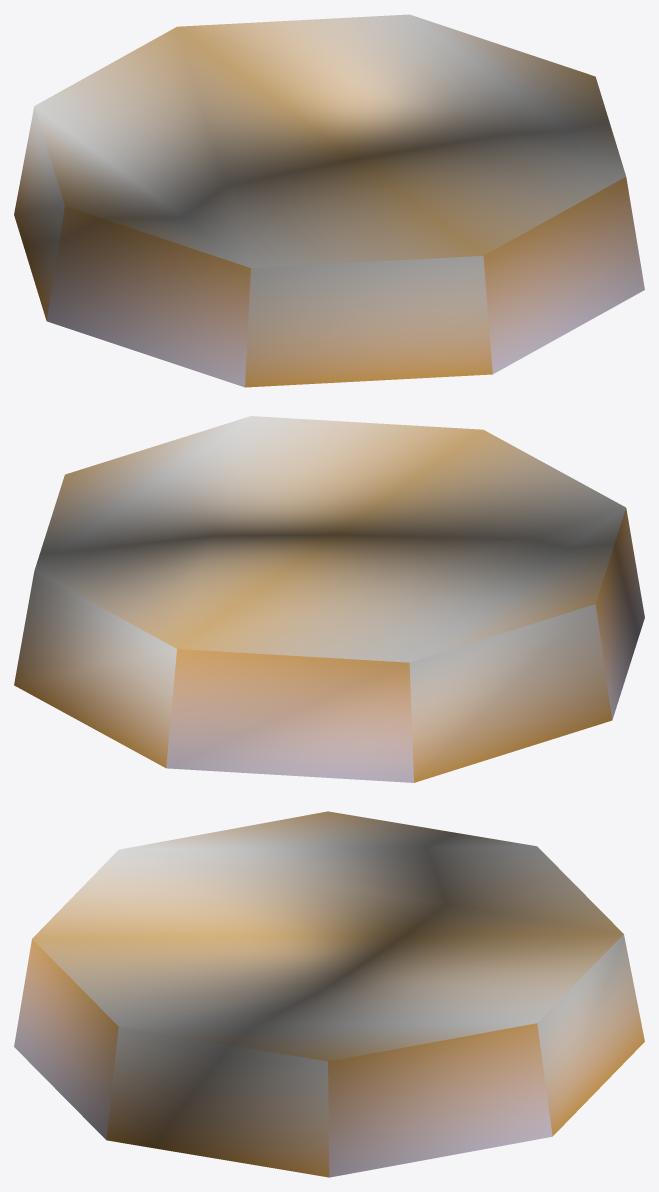
The model's file is GaryCannonCannonBaseCollider.glb.
The picture shows the model from 3 angles, top to bottom: view 1: azimuth 30°, elevation 25°; view 2: azimuth 150°, elevation 25°; view 3: azimuth 270°, elevation 25°; orthographic projection. The views are drawn at different scales.
Visible parts, largest first — view 1: GaryCannonCannonBaseCollider; view 2: GaryCannonCannonBaseCollider; view 3: GaryCannonCannonBaseCollider.
Part boxes in pixels (x1,y1,x2,y2): GaryCannonCannonBaseCollider: (14, 14, 644, 387); GaryCannonCannonBaseCollider: (14, 416, 644, 782); GaryCannonCannonBaseCollider: (14, 811, 644, 1177).
Bounding box in the file's own units: 1.67 × 0.3288 × 1.67.
